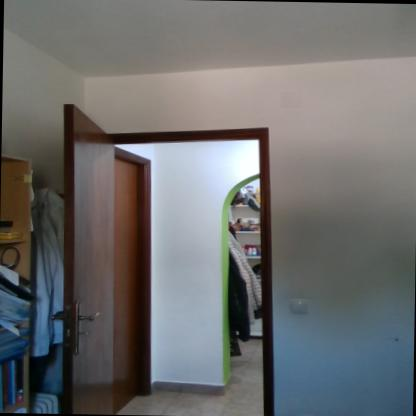closed: (110, 148, 154, 404)
open: (69, 111, 286, 414)
